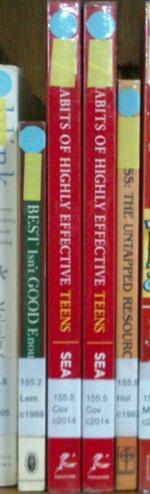call_number: (17, 358, 45, 436), (47, 379, 81, 438), (83, 379, 115, 438), (117, 359, 138, 437)
